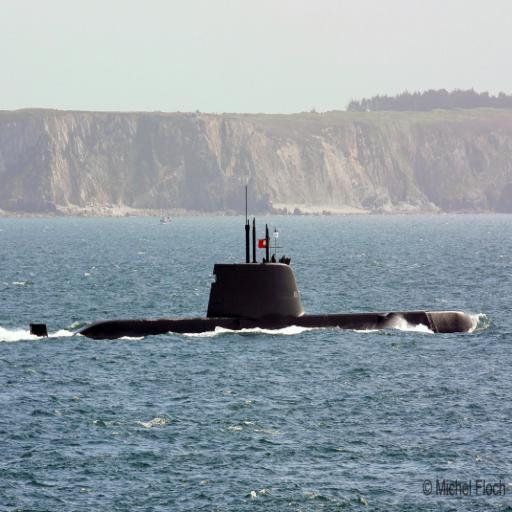submarine: (28, 216, 482, 345)
